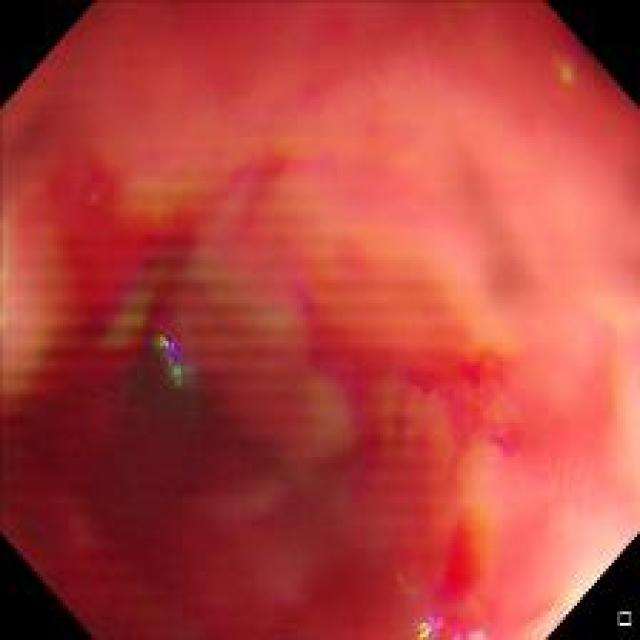blood: (32, 215, 482, 612)
blur: (2, 2, 636, 638)
color misalignment: (146, 321, 210, 398), (399, 599, 510, 638), (541, 26, 590, 101)
